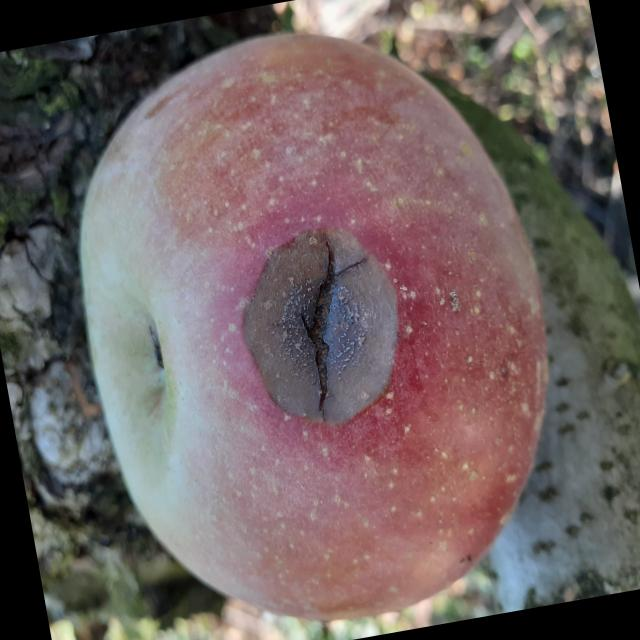rotten: (31, 1, 603, 640)
